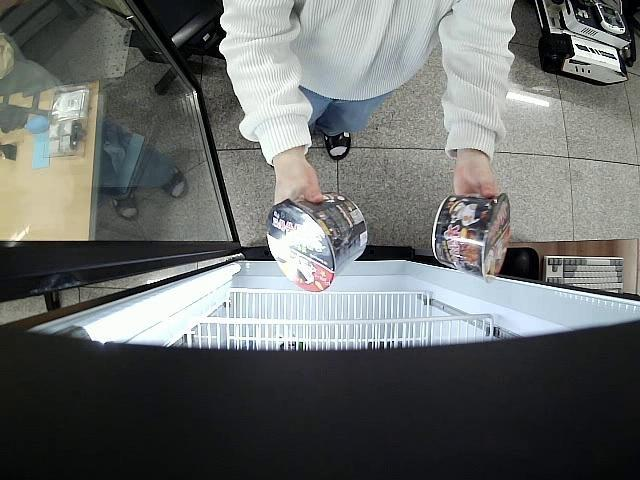07_buldak_L: (268, 194, 371, 294), (427, 194, 514, 284)
